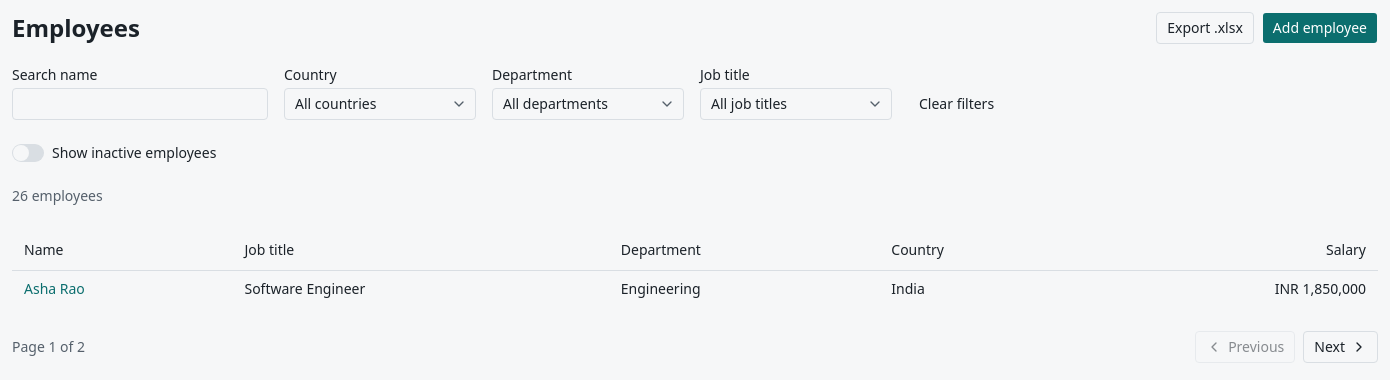
Test: EmployeeListPage › returns to the first page when Previous is clicked
Click the button "Next".
click(1341, 347)  # box [1303,331,1378,363]
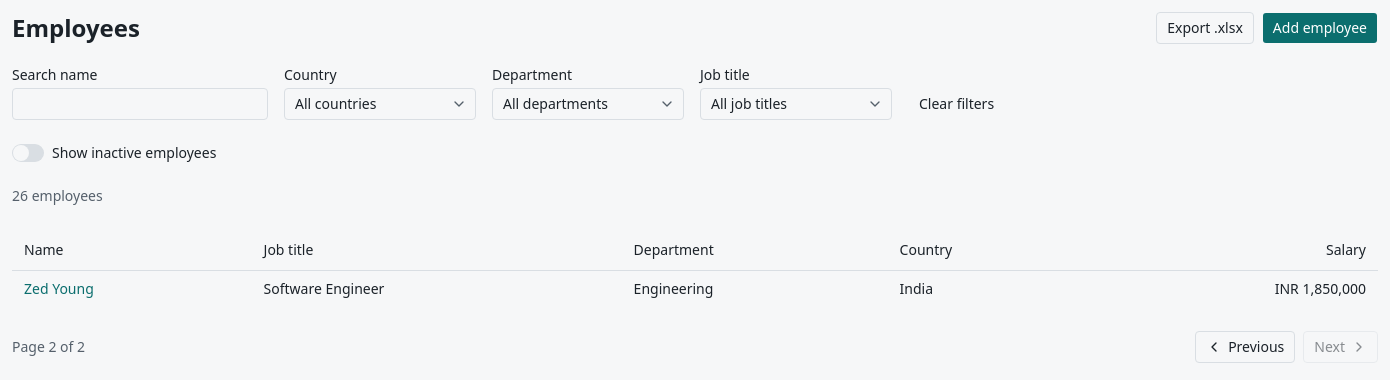
Now the link "Zed Young" is shown, box [24,279,94,298]
Click the button "Previous".
click(1245, 347)  # box [1195,331,1295,363]
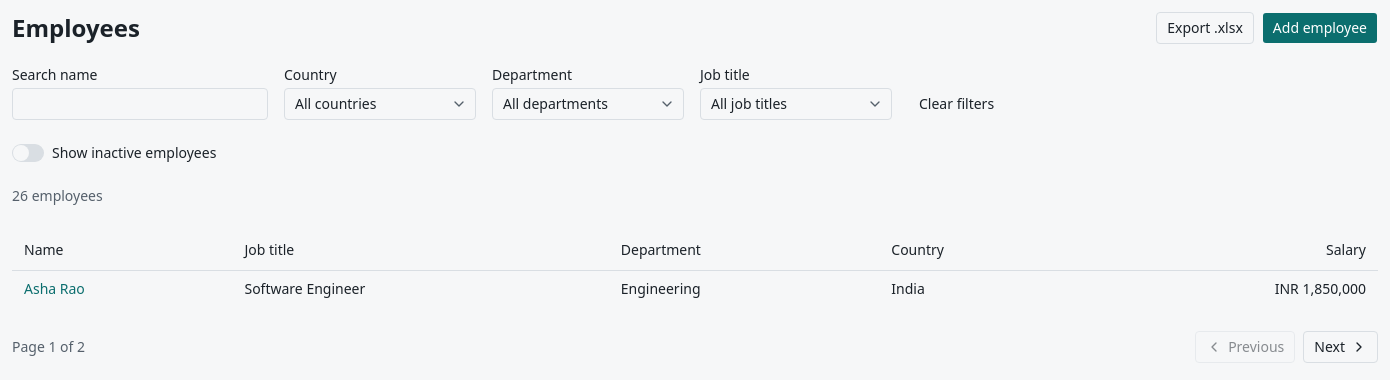
Now the link "Asha Rao" is shown, box [24,279,85,298]
Now the text "Page 1 of 2" is shown, box [12,337,85,357]
